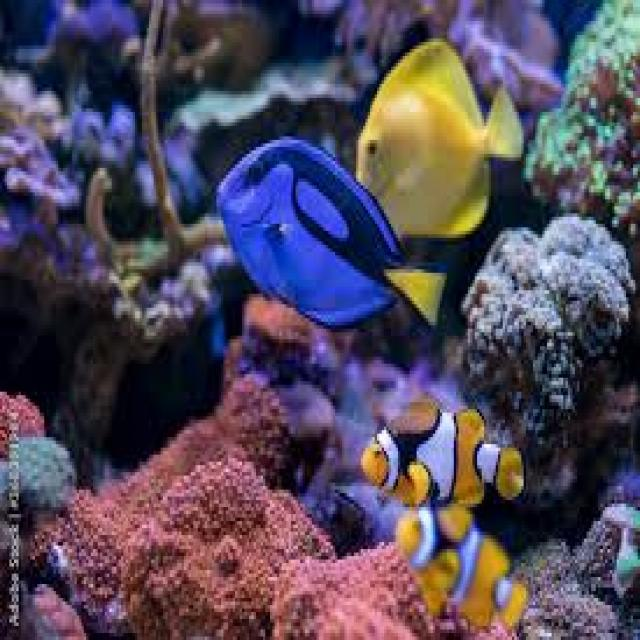YellowTang: (340, 12, 526, 249)
